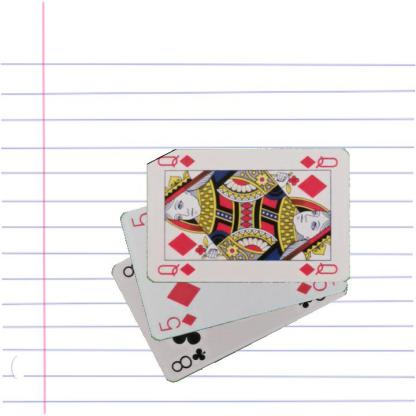5d: (156, 311, 198, 333)
8c: (168, 346, 208, 375)
Qd: (294, 154, 339, 172), (155, 260, 196, 278)
